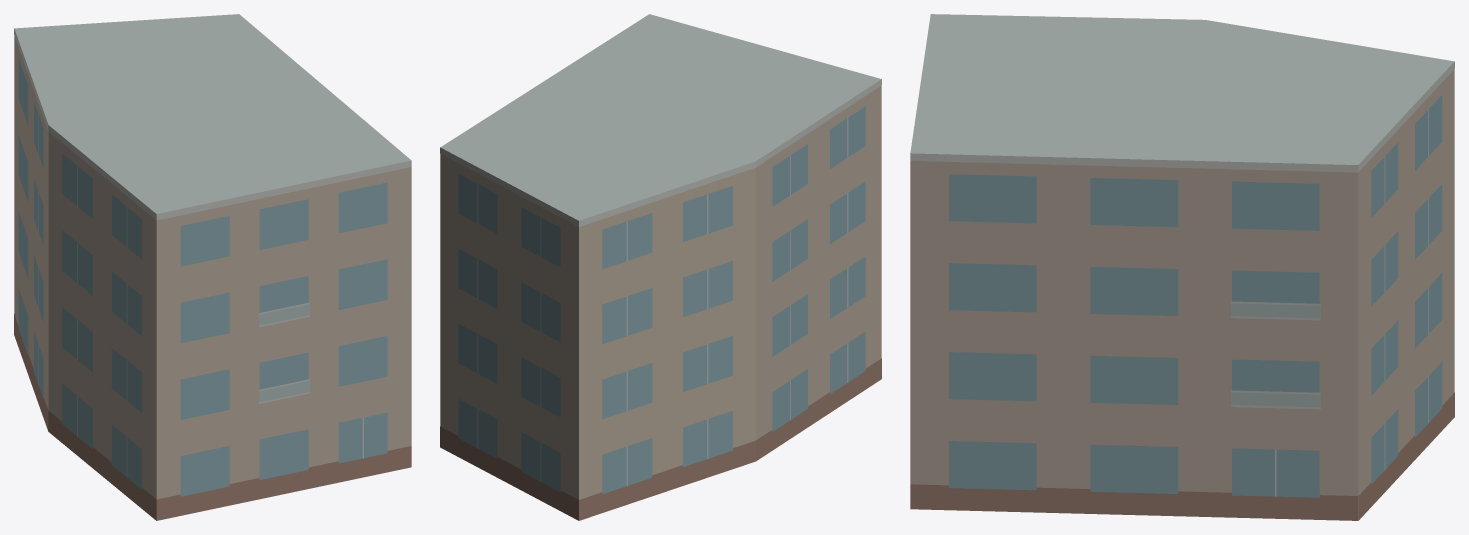
Rendered from survey-upis-32985630.glb.
3 views of the same model, side by side, from view 1: azimuth 30°, elevation 25°; view 2: azimuth 150°, elevation 25°; view 3: azimuth 270°, elevation 25° (orthographic). The views are drawn at different scales.
Parts seen in each view (by area): view 1: survey-upis-32985630.tmp; view 2: survey-upis-32985630.tmp; view 3: survey-upis-32985630.tmp.
Boxes of the visible parts, left/top/right/bottom form: survey-upis-32985630.tmp: left=14, top=14, right=411, bottom=520; survey-upis-32985630.tmp: left=440, top=14, right=881, bottom=520; survey-upis-32985630.tmp: left=910, top=14, right=1454, bottom=520.
Size of the model in its own units: 10.67 by 11.7 by 16.24.
